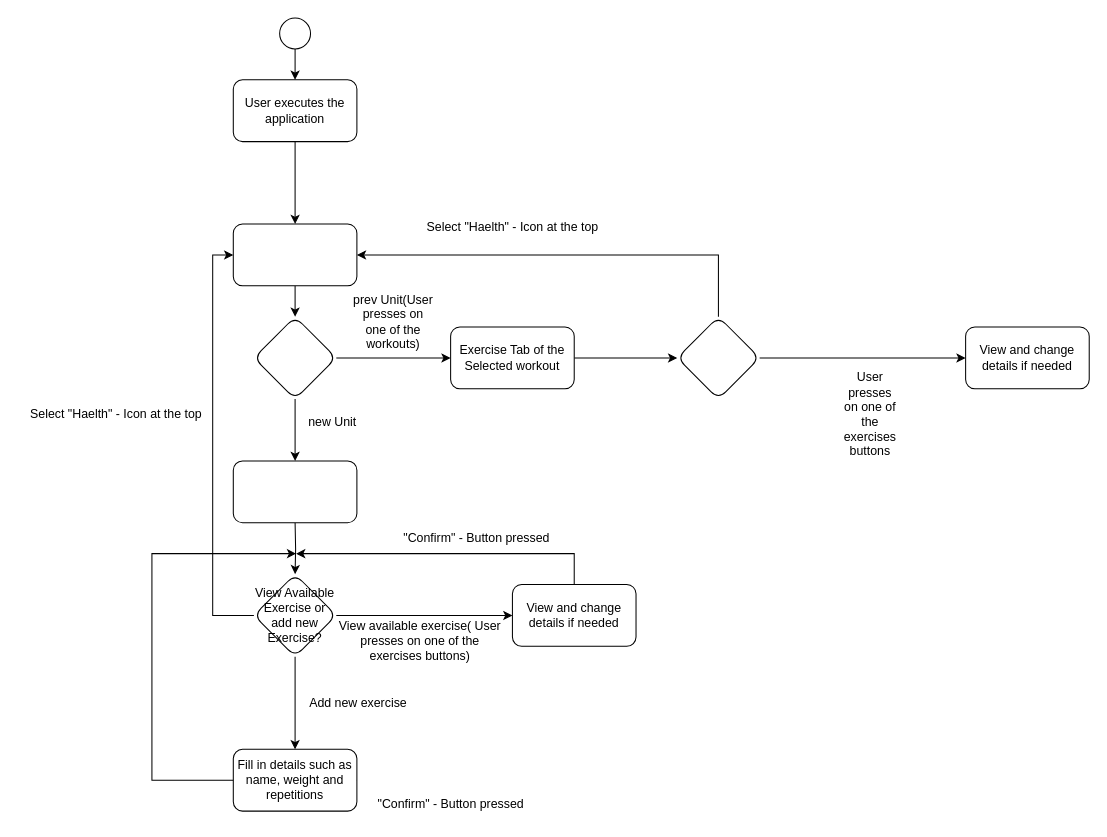
This 1107x837 diagram has some shape labels left out. The centre of each missing label's shape, as x and y in pixels:
"Add Unit" goes at [294,491].
"Exercise" goes at [294,254].
"New Unit or view previous Unit" goes at [294,357].
